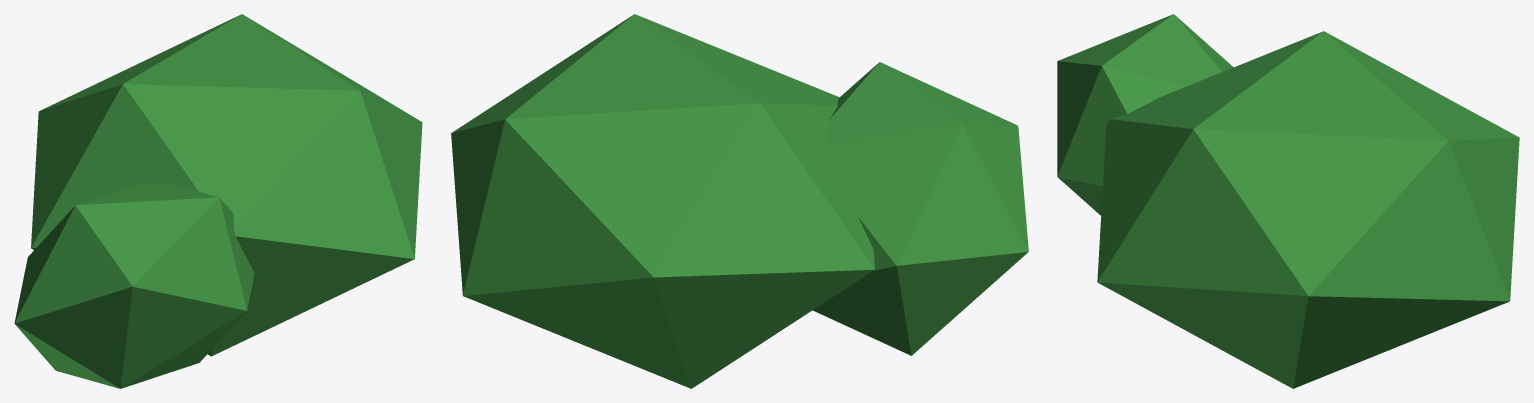
The model's file is TreeTwofbx.fbx.
3 views of the same model, side by side, from view 1: azimuth 30°, elevation 25°; view 2: azimuth 150°, elevation 25°; view 3: azimuth 270°, elevation 25° (orthographic). The views are drawn at different scales.
Parts seen in each view (by area): view 1: CESPUGLIO3; view 2: CESPUGLIO3; view 3: CESPUGLIO3.
Boxes of the visible parts, x1,y1,x2,y2 form: CESPUGLIO3: (14,14,422,388); CESPUGLIO3: (451,14,1028,388); CESPUGLIO3: (1057,14,1519,388).
Size of the model in its own units: 261 by 127 by 207.
